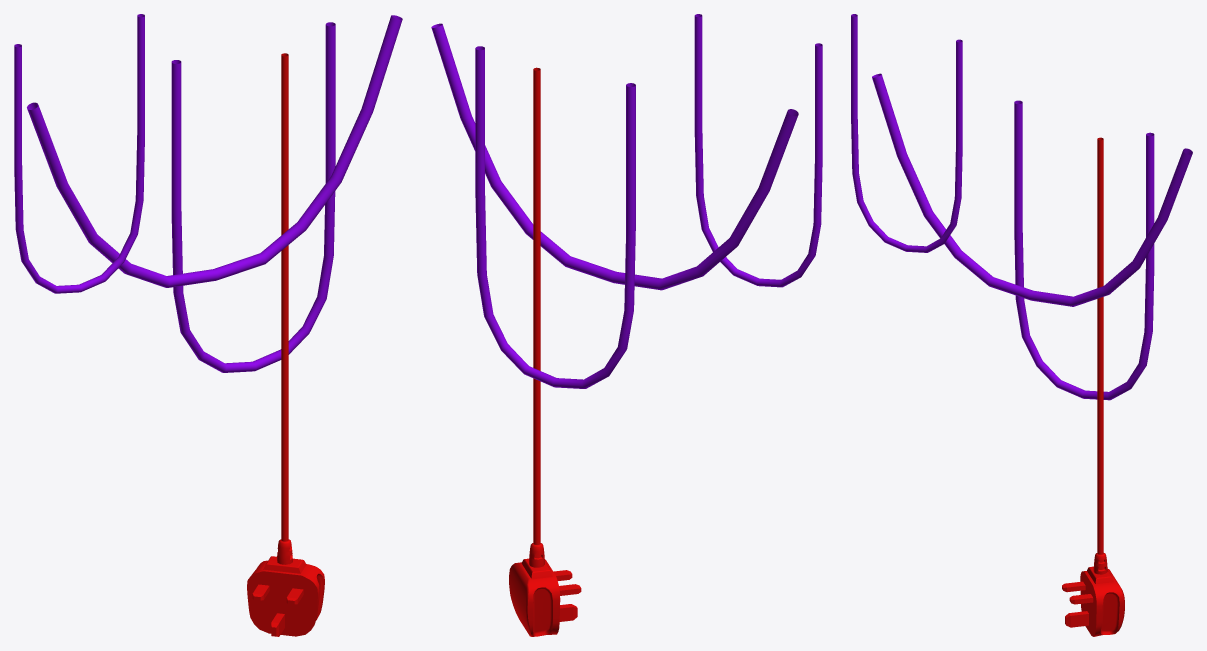
Rendered from GDT_ForegroundWire1.fbx.
The picture shows the model from 3 angles, left to right: view 1: azimuth 30°, elevation 25°; view 2: azimuth 150°, elevation 25°; view 3: azimuth 330°, elevation 25°; orthographic projection. The views are drawn at different scales.
Parts seen in each view (by area): view 1: polySurface11; view 2: polySurface11; view 3: polySurface11.
Boxes of the visible parts, <box> form: polySurface11: <box>14,14,402,636</box>; polySurface11: <box>431,14,822,636</box>; polySurface11: <box>851,14,1192,636</box>.
Size of the model in its own units: 54.46 by 87.2 by 9.74.
